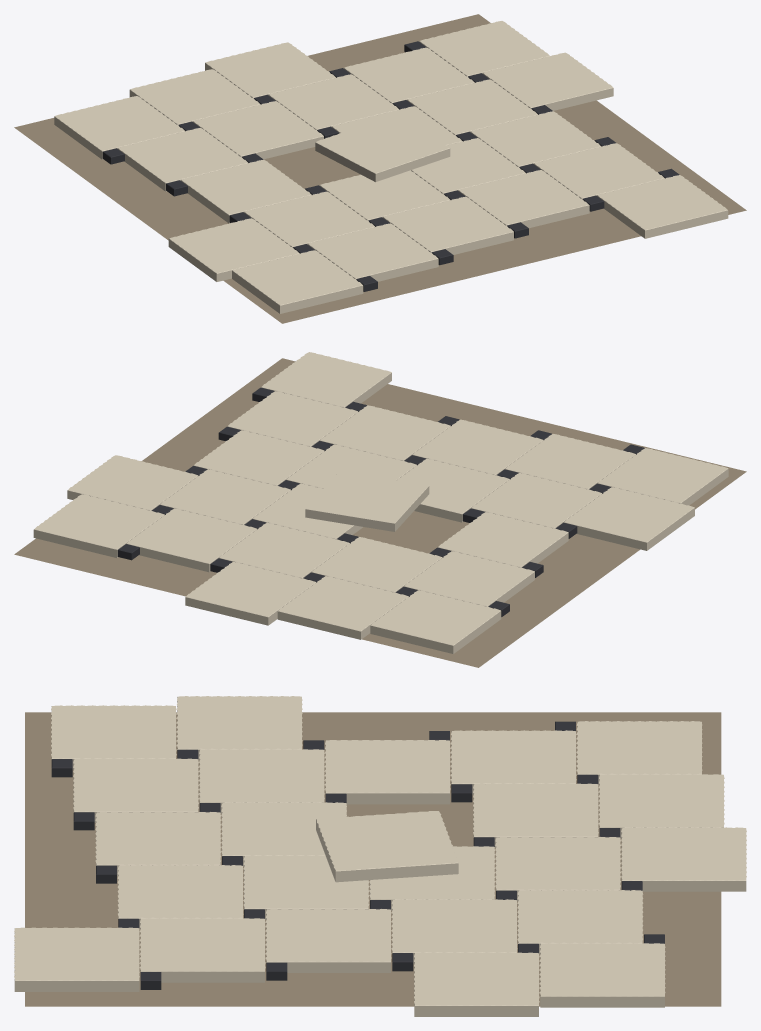
File: terilgan.glb
The picture shows the model from 3 angles, top to bottom: view 1: azimuth 30°, elevation 25°; view 2: azimuth 150°, elevation 25°; view 3: azimuth 270°, elevation 25°; orthographic projection. The views are drawn at different scales.
Parts seen in each view (by area): view 1: qum, t.021, t, t.037, t.027, t.017, t.047, t.007, t.002, t.023, t.015, t.011 (+13 smaller); view 2: qum, t.015, t.021, t.002, t.025, t.035, t.048, t.044, t, t.011, t.037, t.013 (+13 smaller); view 3: qum, t.021, t.048, t.037, t.047, t.035, t.038, t.011, t.040, t.009, t.007, t.023 (+13 smaller).
Part boxes in pixels (x1,y1,x2,y2): qum: (14,14,746,323); t.021: (315,116,450,182); t: (232,250,363,313); t.037: (597,175,728,238); t.027: (458,170,589,228); t.017: (383,196,513,254); t.047: (482,52,613,110); t.007: (307,223,438,281); t.002: (168,218,299,281); t.023: (193,101,323,159); t.015: (54,96,185,159); t.011: (181,159,311,223); qum: (14,358,746,667); t.015: (370,590,501,653); t.021: (305,471,429,531); t.002: (564,487,694,550); t.025: (277,576,408,639); t.035: (185,562,316,625); t.048: (33,494,164,557); t.044: (126,508,257,572); t: (597,448,728,505); t.011: (437,512,568,567); t.037: (261,352,391,407); t.013: (404,551,534,606); qum: (25,712,721,1006); t.021: (316,811,458,882); t.048: (539,943,665,1007); t.037: (14,927,139,991); t.047: (414,952,539,1016); t.035: (621,827,746,891); t.038: (140,918,265,982); t.011: (325,740,450,804); t.040: (266,909,391,972); t.009: (199,749,324,813); t.007: (73,758,198,822); t.023: (473,783,598,847).
Bounding box in the file's own units: 1.75 × 0.062 × 1.75.
